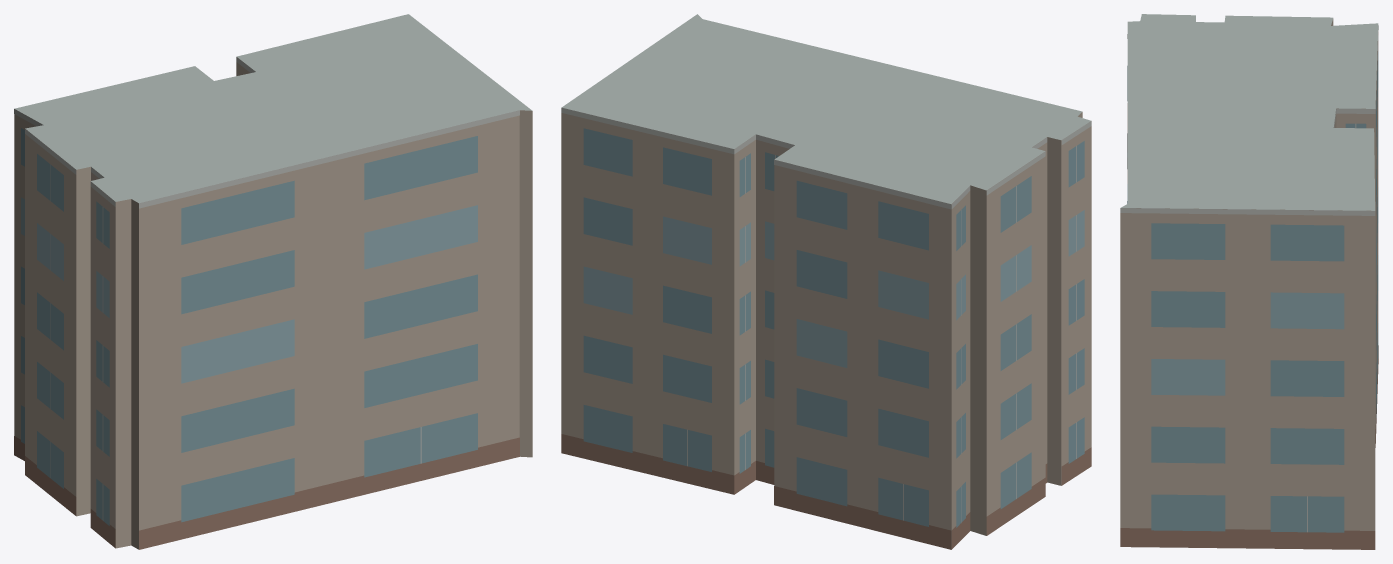
The model's file is survey-upis-32814270.glb.
3 views of the same model, side by side, from view 1: azimuth 30°, elevation 25°; view 2: azimuth 150°, elevation 25°; view 3: azimuth 270°, elevation 25° (orthographic). The views are drawn at different scales.
Visible parts, largest first — view 1: survey-upis-32814270.tmp; view 2: survey-upis-32814270.tmp; view 3: survey-upis-32814270.tmp.
Boxes of the visible parts, x1,y1,x2,y2 form: survey-upis-32814270.tmp: (14,14,532,549); survey-upis-32814270.tmp: (561,14,1091,549); survey-upis-32814270.tmp: (1120,14,1378,549).
Size of the model in its own units: 20.05 by 16.1 by 11.11.
